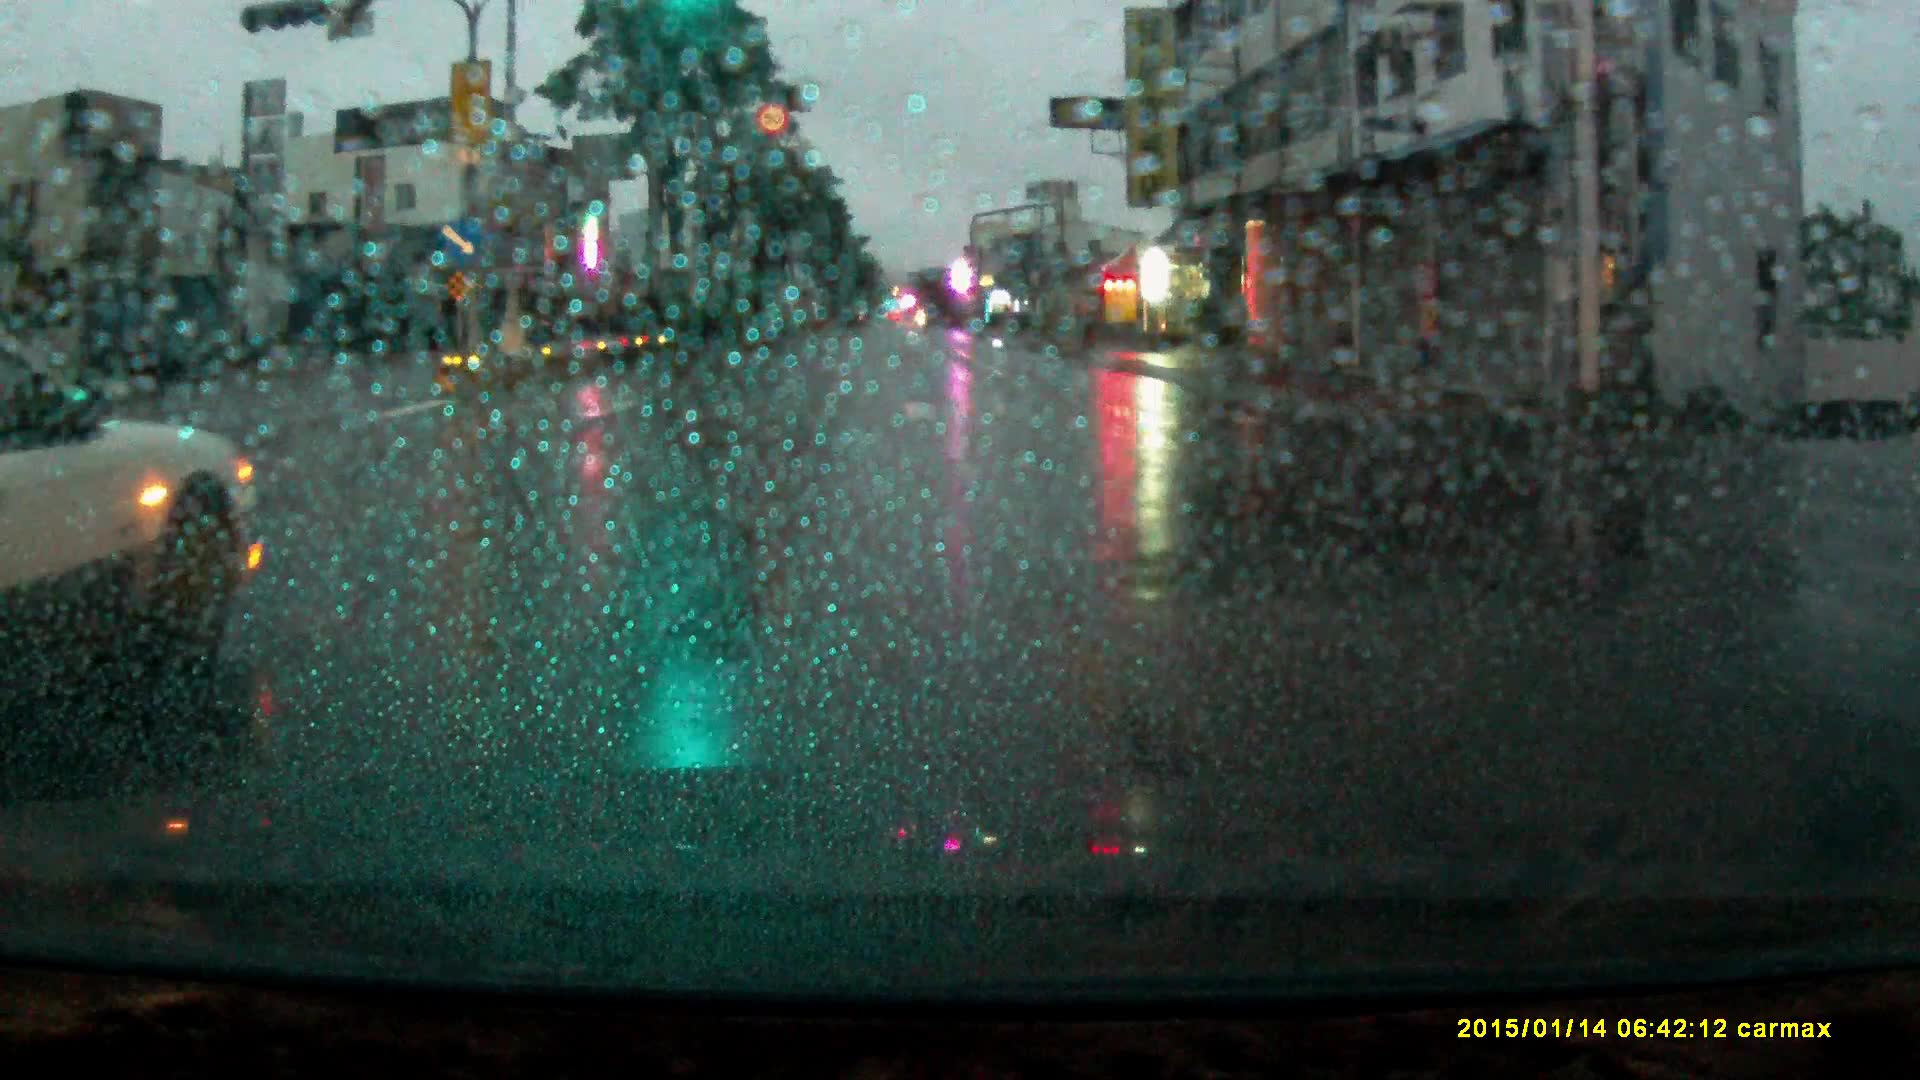vehicle: (1, 320, 262, 686)
